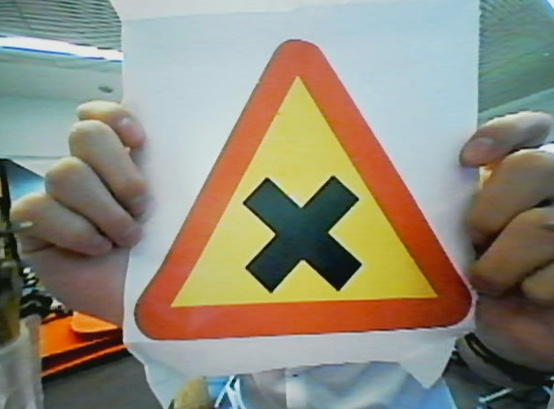junction: (119, 17, 522, 386)
